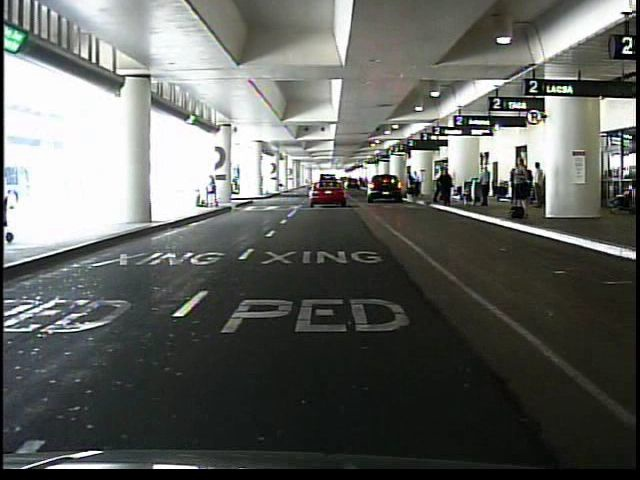person: (511, 157, 532, 210), (531, 161, 545, 210), (440, 169, 455, 208), (205, 173, 221, 209), (480, 166, 493, 209), (405, 168, 418, 203), (435, 167, 446, 204), (410, 169, 421, 197)
